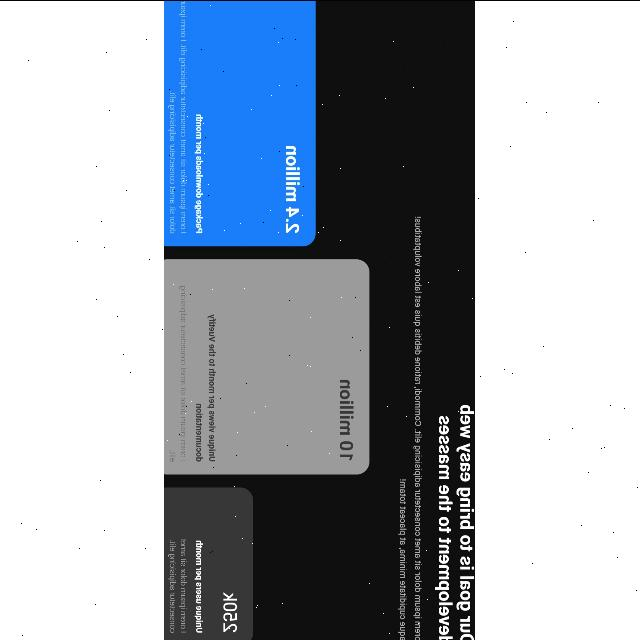QLabel: (398, 214, 424, 640), (438, 404, 476, 640), (167, 0, 189, 234), (169, 284, 189, 462), (195, 312, 217, 462), (168, 536, 188, 632), (283, 144, 303, 236), (337, 378, 357, 460), (194, 112, 204, 234), (194, 538, 203, 634), (223, 590, 237, 634)
VCard: (165, 257, 372, 475), (165, 0, 318, 246), (165, 486, 255, 640)
